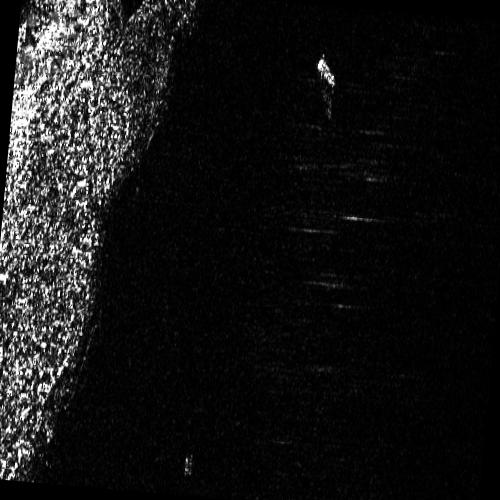ship: (317, 58, 335, 85)
